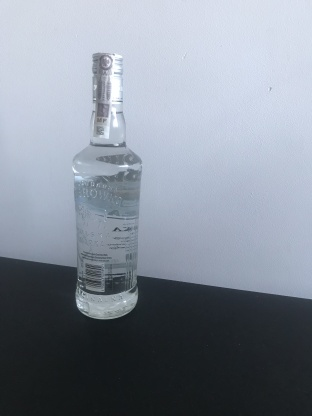nakretka: (89, 48, 125, 109)
